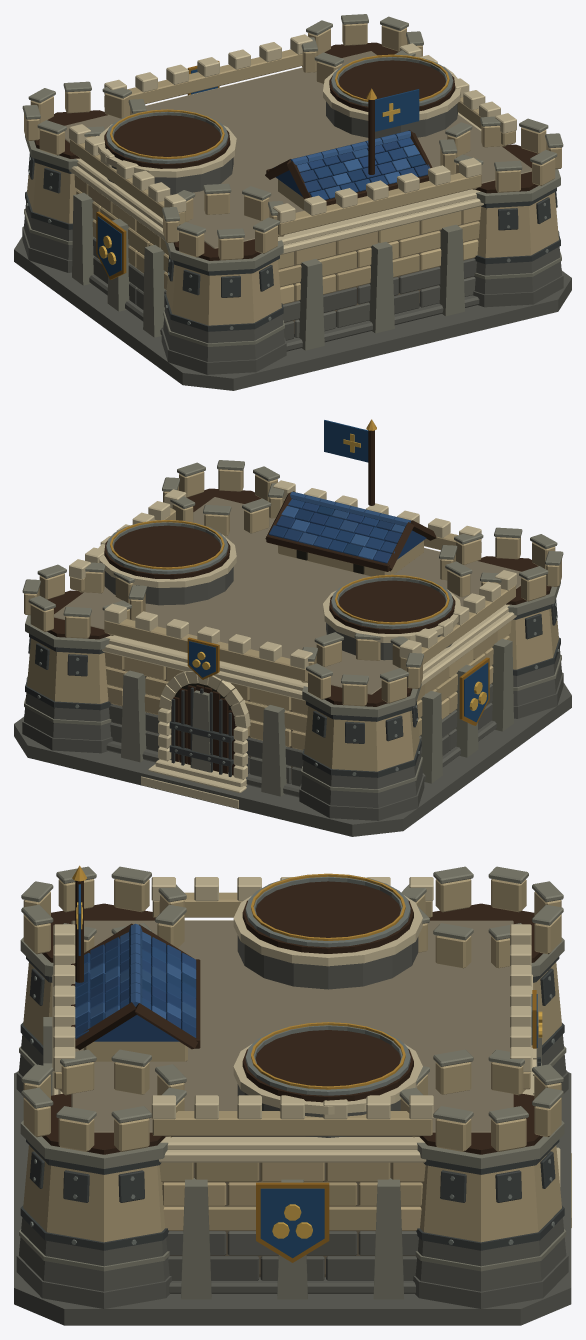
3 views of the same model, one above another, from view 1: azimuth 30°, elevation 25°; view 2: azimuth 150°, elevation 25°; view 3: azimuth 270°, elevation 25° (orthographic). The views are drawn at different scales.
Parts seen in each view (by area): view 1: Stone, Timber, Metal, Roof, Fabric; view 2: Stone, Timber, Metal, Roof, Fabric; view 3: Stone, Timber, Metal, Roof, Fabric.
Boxes of the visible parts, box(x1,y1,x2,y2) form: Stone: box(14, 14, 571, 390); Timber: box(34, 42, 538, 260); Metal: box(25, 54, 560, 331); Roof: box(274, 130, 429, 199); Fabric: box(97, 69, 419, 276); Stone: box(14, 460, 571, 836); Timber: box(47, 430, 551, 775); Metal: box(25, 419, 560, 777); Roof: box(269, 491, 426, 563); Fabric: box(189, 420, 488, 722); Stone: box(14, 866, 571, 1325); Timber: box(42, 880, 542, 1154); Metal: box(20, 865, 564, 1262); Roof: box(75, 923, 196, 1041); Fabric: box(78, 884, 537, 1258).
Bounding box in the file's own units: 11.94 × 7.19 × 10.95.
